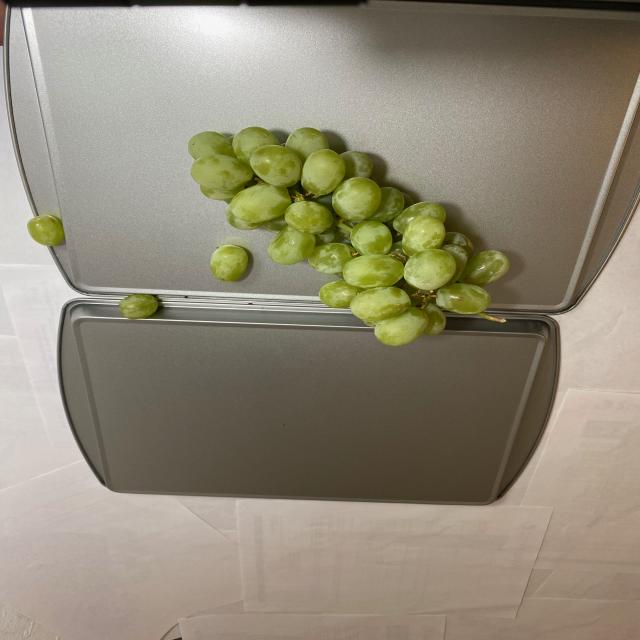Grapes: (119, 122, 529, 342), (24, 202, 78, 253)
